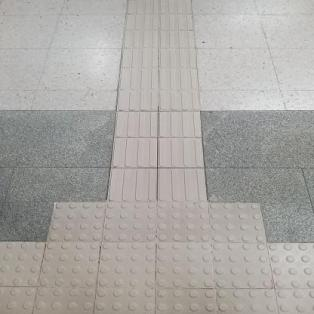Podoctatil: (0, 1, 313, 313)
